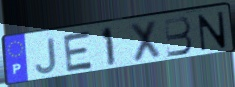1: (99, 25, 119, 69)
B: (163, 15, 195, 59)
E: (62, 29, 96, 74)
J: (34, 35, 59, 75)
N: (197, 10, 228, 53)
X: (128, 18, 163, 64)
